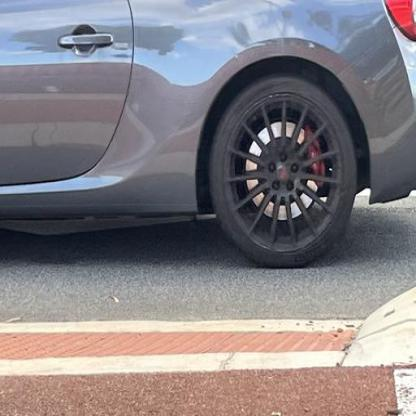Tire: (207, 73, 358, 269)
